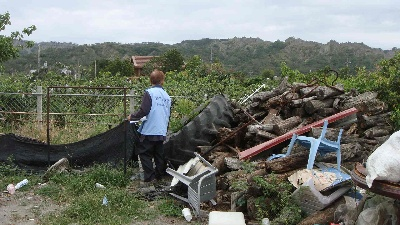tire: (157, 91, 236, 174)
